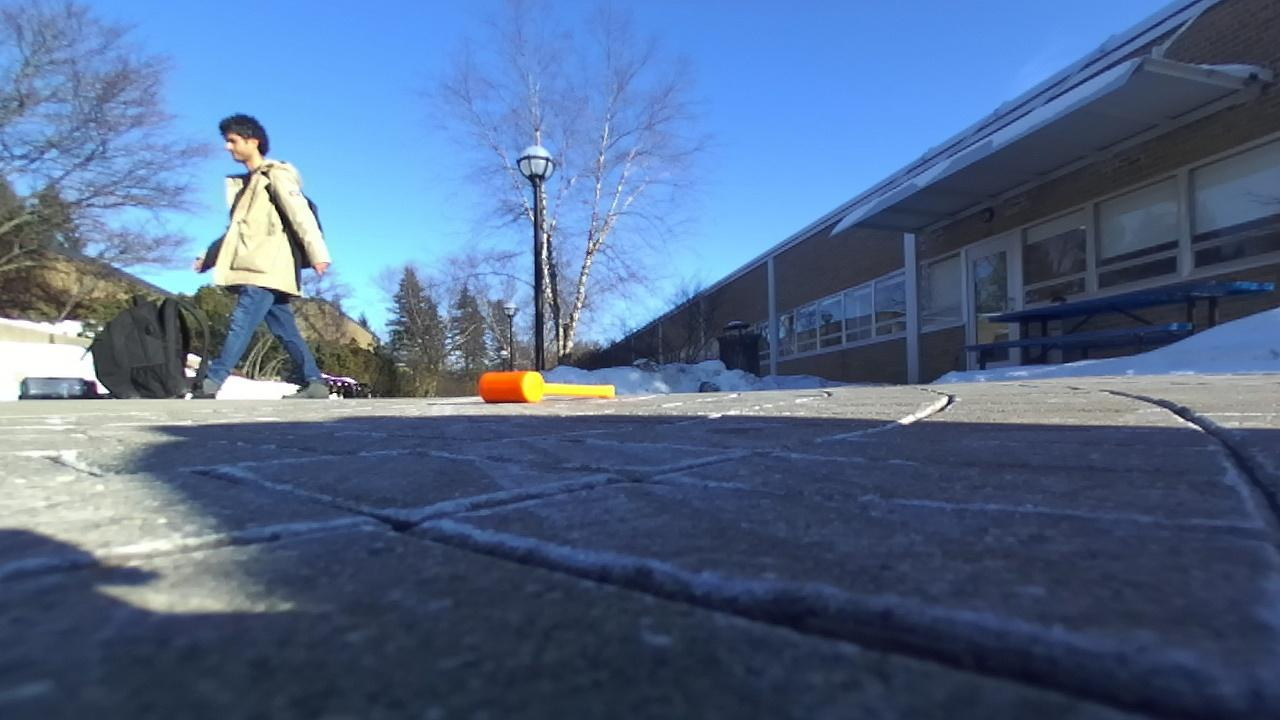bottle: (19, 377, 98, 398)
mallet: (479, 371, 614, 402)
